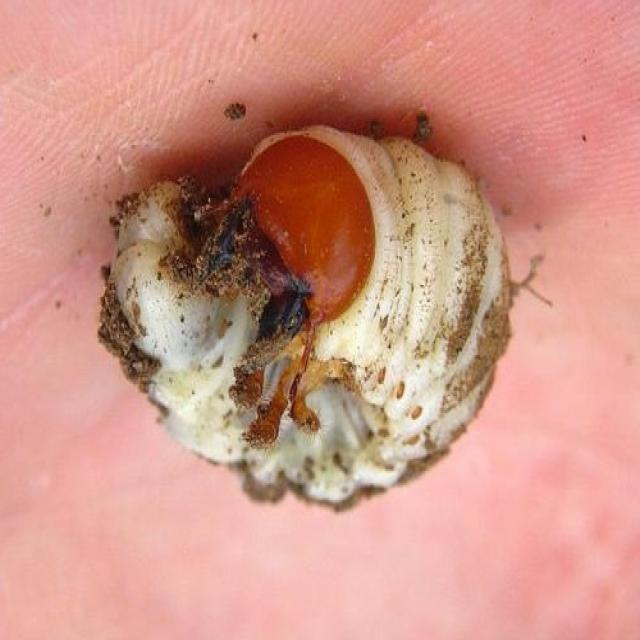grub: (72, 115, 524, 523)
